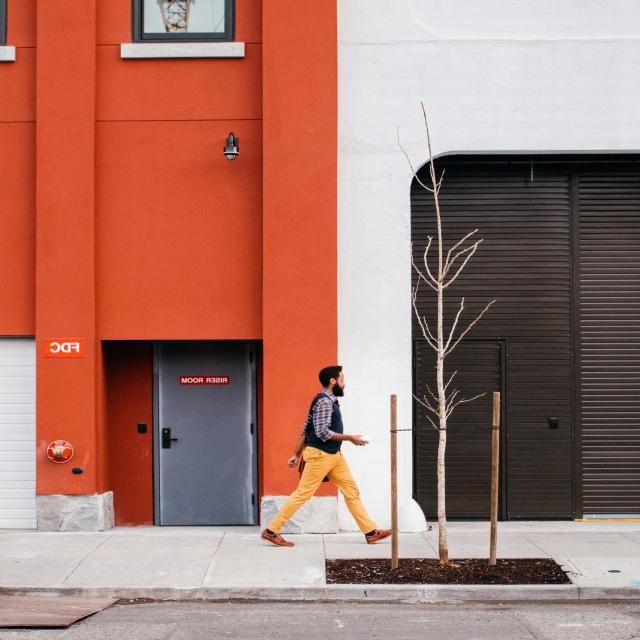adult: (261, 366, 391, 546)
